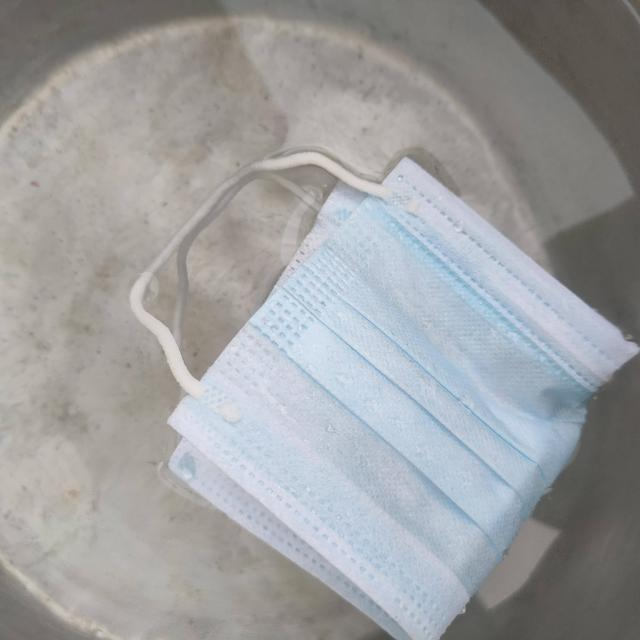litter: (128, 128, 628, 640)
